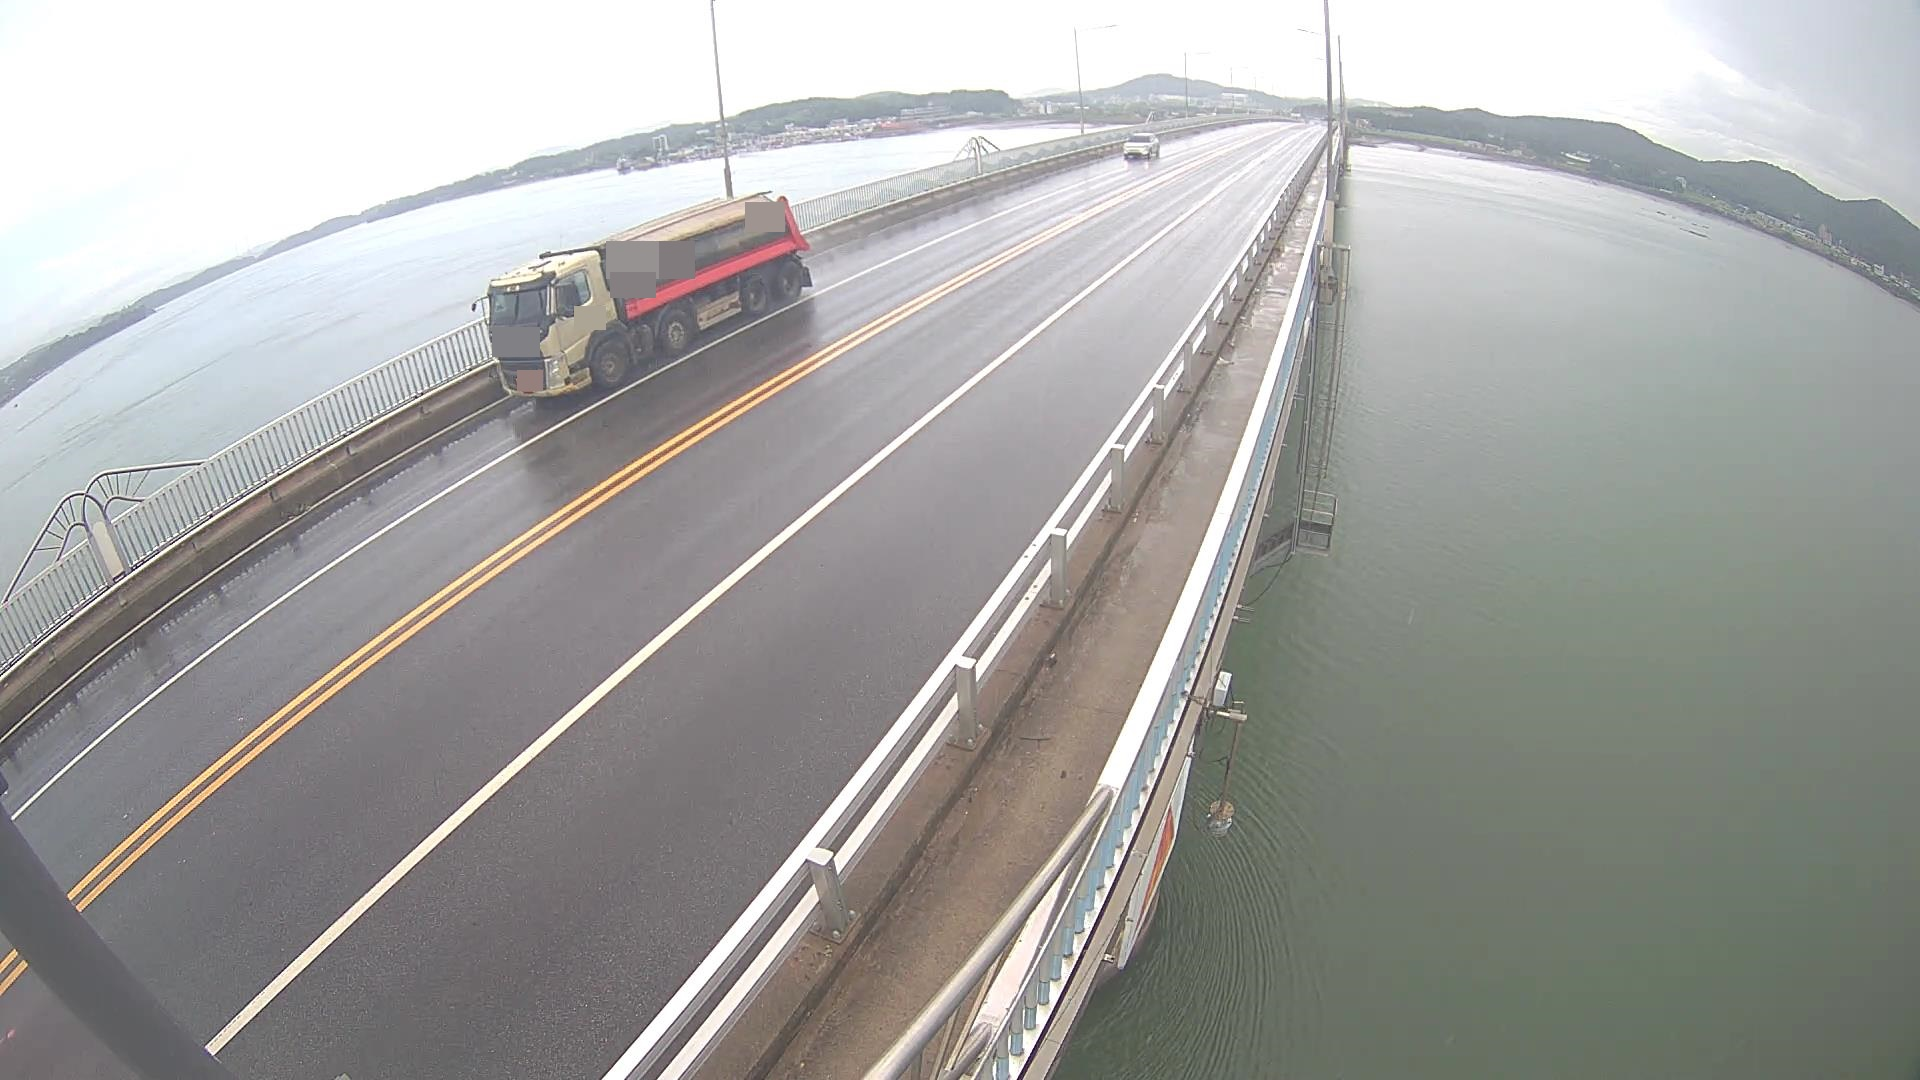정상차량: (471, 190, 813, 402)
